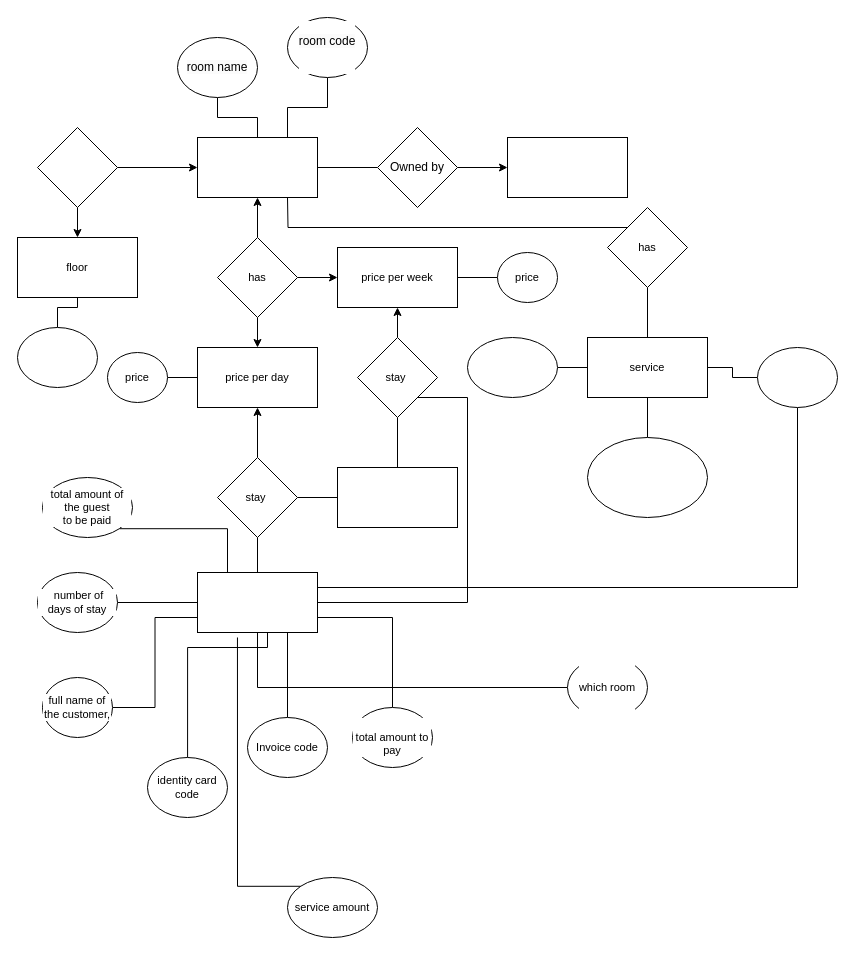
Some shapes in this 855 by 955 pixel diagram are drawn without their labels. Here are the shapes that lost their labels. From the top down, the centre of each, then its label:
At (77,167): "is located".
At (257,167): "Room".
At (567,167): "Hotel".
At (57,357): "floor code".
At (512,367): "code".
At (797,377): "name".
At (397,497): "customers".
At (647,477): "corresponding amount".
At (257,602): "Room payment invoice".
